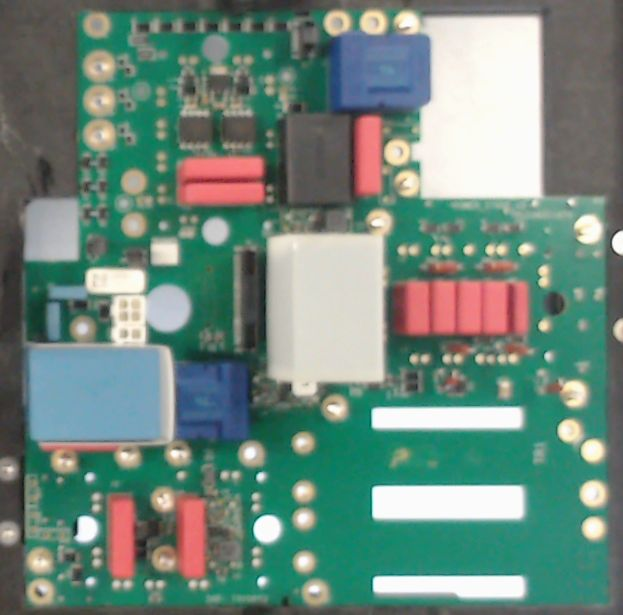comp1: (331, 35, 434, 113), (170, 360, 249, 439)
comp2: (174, 495, 207, 579), (353, 115, 386, 196), (107, 491, 135, 581), (176, 179, 268, 206), (392, 279, 431, 337), (175, 155, 265, 180), (481, 279, 511, 338), (429, 279, 458, 336), (458, 278, 483, 336), (513, 278, 531, 338)
comp3: (284, 111, 354, 207)
comp4: (264, 233, 383, 383), (28, 341, 173, 447)
